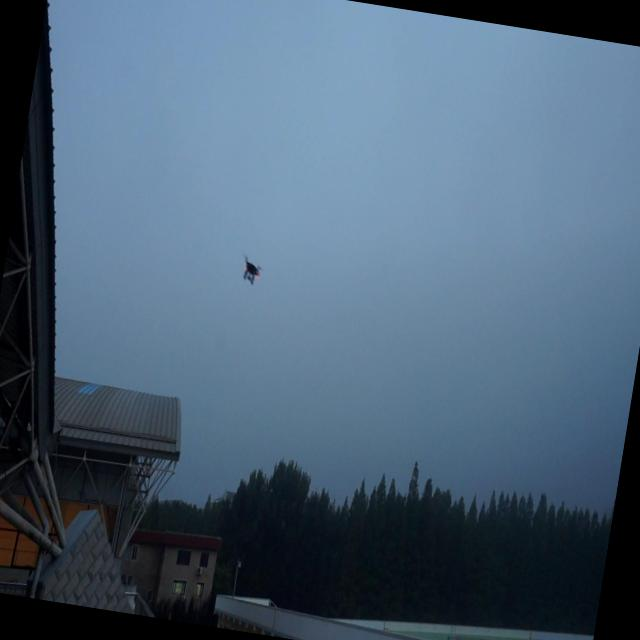drone: (238, 255, 264, 289)
